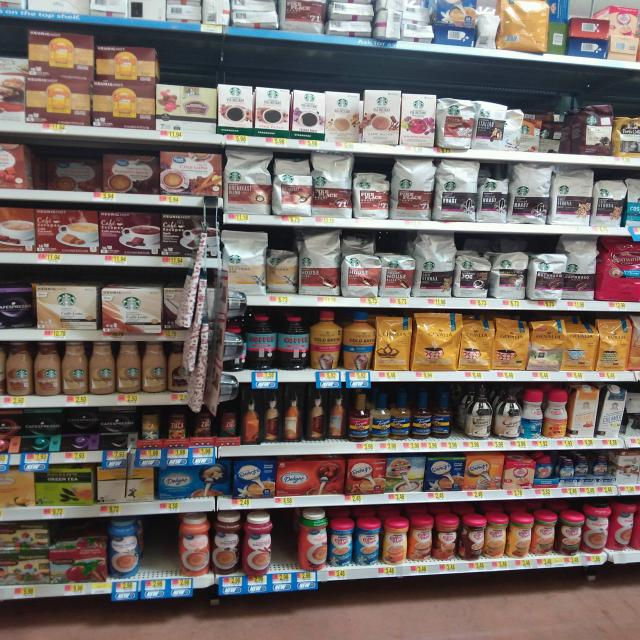empty: (136, 523, 181, 584), (270, 509, 302, 570)
